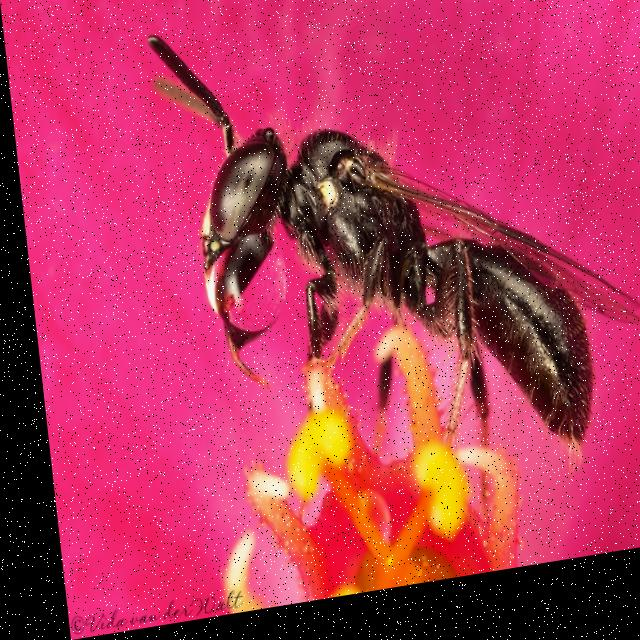Braunsapis: (138, 0, 640, 537)
